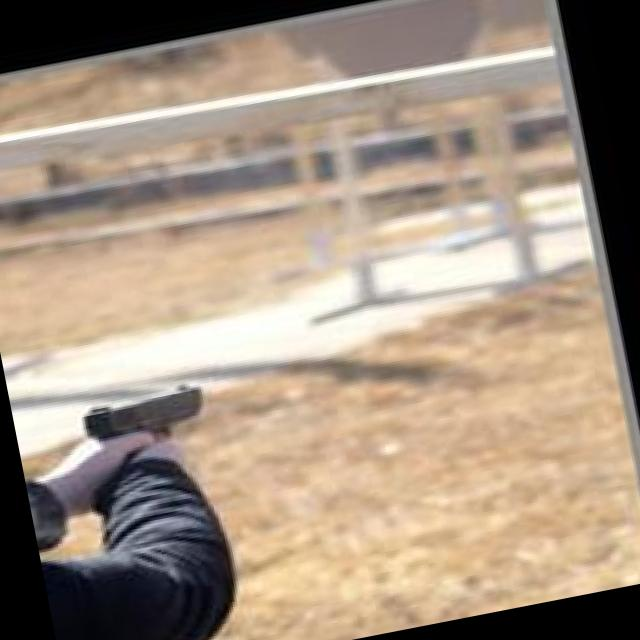Guns: (28, 340, 262, 522)
